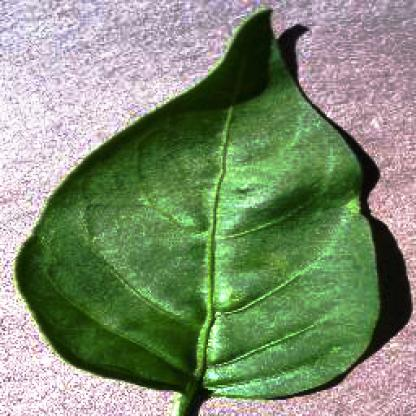Healthy: (13, 8, 379, 414)
